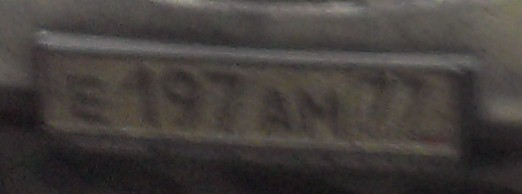character: (207, 63, 247, 138), (296, 80, 340, 144), (119, 60, 159, 130), (163, 66, 205, 132), (66, 70, 109, 126), (395, 64, 429, 130), (256, 86, 296, 139), (363, 68, 396, 130)
